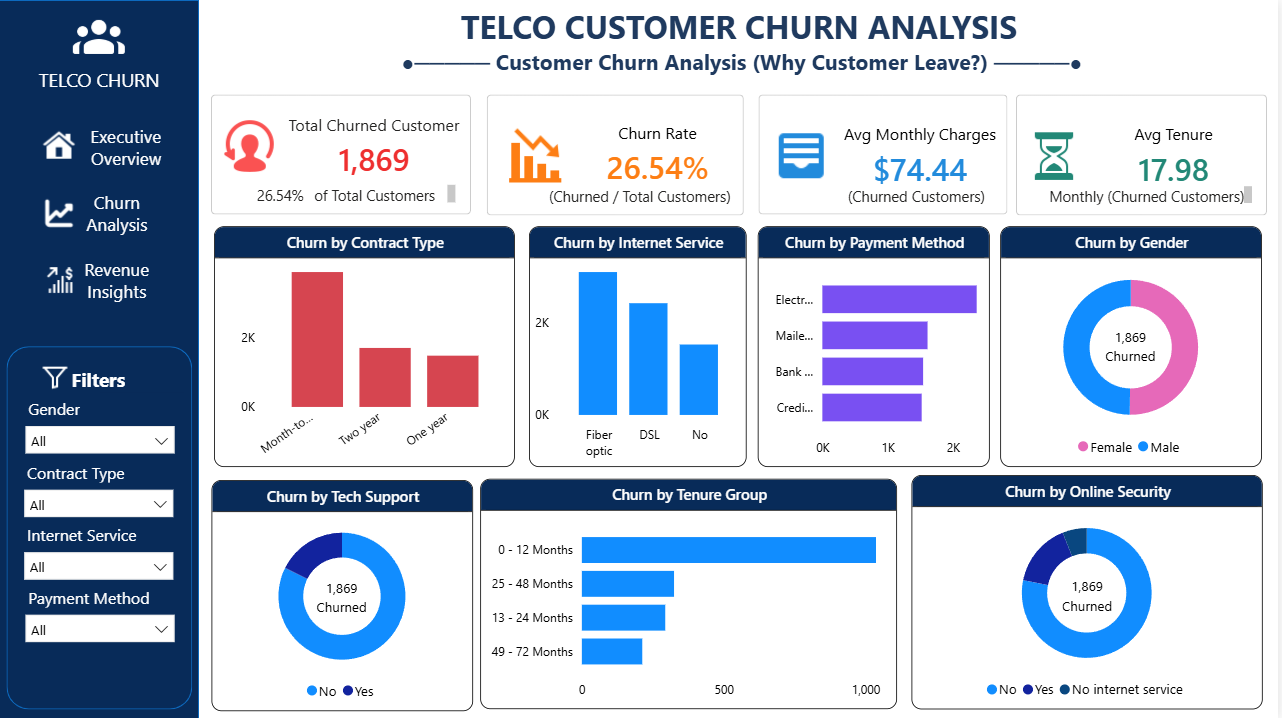

What the dashboard file says about the page in this screenshot:
{"tool":"powerbi","page":{"name":"Churn Analysis","canvas":[1280,720],"ordinal":1},"visuals":[{"type":"shape","box":[0,0,200,720],"z":0},{"type":"image","box":[55.7,11.4,87.1,51.4],"z":1000},{"type":"textbox","box":[0,62.9,200,37.1],"z":2000},{"type":"actionButton","box":[7.1,114.3,185.7,65.7],"z":3000},{"type":"actionButton","box":[7.3,179.8,185.9,66],"z":4000},{"type":"actionButton","box":[7.3,245.8,185.9,67.3],"z":5000},{"type":"shape","box":[7.2,346.2,185.8,363.1],"z":6000},{"type":"image","box":[30,362.9,51.4,31.4],"z":7000},{"type":"textbox","box":[67.1,362.9,90,38.6],"z":8000},{"type":"slicer","fields":{"Values":["public tcc.gender"]},"box":[15.7,392.1,168.9,88.1],"z":9000},{"type":"slicer","fields":{"Values":["public tcc.contract"]},"box":[14.5,456,168.9,88.1],"z":10000},{"type":"slicer","fields":{"Values":["public tcc.internet_service"]},"box":[14.5,518.8,168.9,88.1],"z":11000},{"type":"slicer","fields":{"Values":["public tcc.payment_method"]},"box":[15.7,581.5,168.9,88.1],"z":12000},{"type":"textbox","box":[200,0,1080,100],"z":13000},{"type":"cardVisual","fields":{"Data":["Measure_.Churned Customers"]},"box":[200.5,81.9,297.1,144.3],"z":14000},{"type":"textbox","box":[310,180,151.2,28.8],"z":16000},{"type":"cardVisual","fields":{"Data":["Measure_.Churn Rate"]},"box":[474.5,81.9,302,145.5],"z":17000},{"type":"cardVisual","fields":{"Data":["Measure_.Avg Monthly Charges (Churned)"]},"box":[747.2,81.9,283.7,144.3],"z":18000},{"type":"textbox","box":[545,175,195,37.5],"z":19000},{"type":"textbox","box":[805.8,174.9,184.6,37.9],"z":20000},{"type":"cardVisual","fields":{"Data":["Measure_.Avg Tenure (Churned)"]},"box":[1005.2,81.9,275.1,145.5],"z":21000},{"type":"textbox","box":[1005.2,174.9,253.1,34.2],"z":22000},{"type":"columnChart","title":"Churn by Contract Type","fields":{"Y":["CountNonNull(public tcc.churn)"],"Category":["public tcc.contract"]},"box":[215.2,226.2,300.8,240.9],"z":23000},{"type":"columnChart","title":"Churn by  Internet Service","fields":{"Category":["public tcc.internet_service"],"Y":["CountNonNull(public tcc.churn)"]},"box":[529.5,226.2,217.7,240.9],"z":24000},{"type":"clusteredBarChart","title":"Churn by Payment Method","fields":{"Y":["CountNonNull(public tcc.churn)"],"Category":["public tcc.payment_method"]},"box":[758.2,226.2,232.3,240.9],"z":25000},{"type":"donutChart","title":"Churn by Gender","fields":{"Category":["public tcc.gender"],"Y":["Measure_.Churned Customers"]},"box":[1001.5,226.2,261.7,240.9],"z":26000},{"type":"cardVisual","fields":{"Data":["Measure_.Churned Customers"]},"box":[1079.8,310.6,103.9,72.1],"z":27000},{"type":"pieChart","title":"Churn by Tech Support","fields":{"Y":["Measure_.Churned Customers"],"Category":["public tcc.tech_support"]},"box":[212.8,480.6,261.7,231.1],"z":28000},{"type":"cardVisual","fields":{"Data":["Measure_.Churned Customers"]},"box":[291,561.3,103.9,72.1],"z":29000},{"type":"clusteredBarChart","title":"Churn by Tenure Group","fields":{"Y":["Measure_.Churned Customers"],"Category":["public tcc.Tenure Group"]},"box":[481.6,478.9,417.2,230.5],"z":30000},{"type":"pieChart","title":"Churn by Online Security","fields":{"Category":["public tcc.online_security"],"Y":["Measure_.Churned Customers"]},"box":[912.5,474.8,351.3,234.6],"z":31000},{"type":"cardVisual","fields":{"Data":["Measure_.Churned Customers"]},"box":[1036,559.9,104.3,71.4],"z":32000},{"type":"cardVisual","fields":{"Data":["Measure_.Churn Rate %"]},"box":[233.8,167.5,97.5,53.8],"z":32001}]}

Visuals, with their boxes in screenshot pixels (x1, y1, x2, y2), scaled from the page's 1280x720 canvas onto the 1282x718 screenshot:
shape: locate(0, 0, 200, 717)
image: locate(56, 11, 143, 63)
textbox: locate(0, 63, 200, 100)
actionButton: locate(7, 114, 193, 180)
actionButton: locate(7, 179, 194, 245)
actionButton: locate(7, 245, 194, 312)
shape: locate(7, 345, 193, 707)
image: locate(30, 362, 82, 393)
textbox: locate(67, 362, 157, 400)
slicer - public tcc.gender: locate(16, 391, 185, 479)
slicer - public tcc.contract: locate(15, 455, 184, 543)
slicer - public tcc.internet_service: locate(15, 517, 184, 605)
slicer - public tcc.payment_method: locate(16, 580, 185, 668)
textbox: locate(200, 0, 1281, 100)
cardVisual - Measure_.Churned Customers: locate(201, 82, 498, 226)
textbox: locate(310, 180, 462, 208)
cardVisual - Measure_.Churn Rate: locate(475, 82, 778, 227)
cardVisual - Measure_.Avg Monthly Charges (Churned): locate(748, 82, 1033, 226)
textbox: locate(546, 175, 741, 212)
textbox: locate(807, 174, 992, 212)
cardVisual - Measure_.Avg Tenure (Churned): locate(1007, 82, 1281, 227)
textbox: locate(1007, 174, 1260, 209)
"Churn by Contract Type" columnChart: locate(216, 226, 517, 466)
"Churn by  Internet Service" columnChart: locate(530, 226, 748, 466)
"Churn by Payment Method" clusteredBarChart: locate(759, 226, 992, 466)
"Churn by Gender" donutChart: locate(1003, 226, 1265, 466)
cardVisual - Measure_.Churned Customers: locate(1081, 310, 1186, 382)
"Churn by Tech Support" pieChart: locate(213, 479, 475, 710)
cardVisual - Measure_.Churned Customers: locate(291, 560, 396, 632)
"Churn by Tenure Group" clusteredBarChart: locate(482, 478, 900, 707)
"Churn by Online Security" pieChart: locate(914, 473, 1266, 707)
cardVisual - Measure_.Churned Customers: locate(1038, 558, 1142, 630)
cardVisual - Measure_.Churn Rate %: locate(234, 167, 332, 221)
